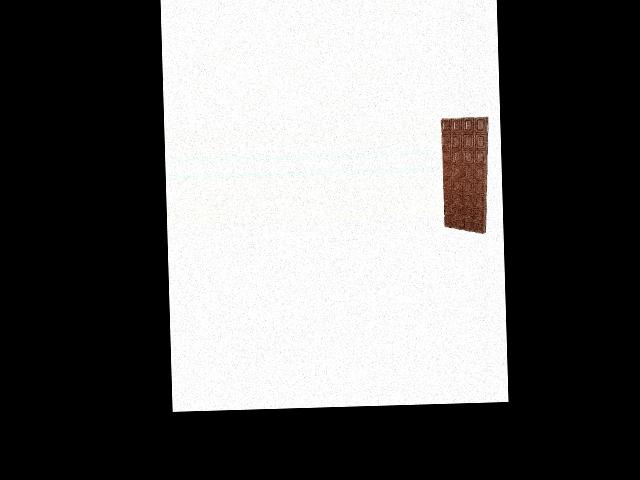chocolate: (440, 115, 490, 236)
